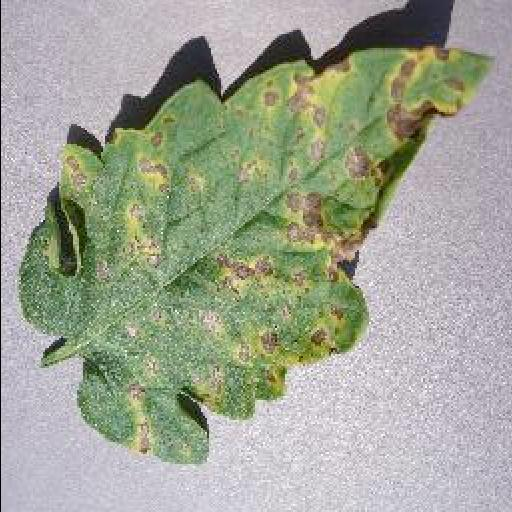disease_tomato: (16, 48, 496, 466)
